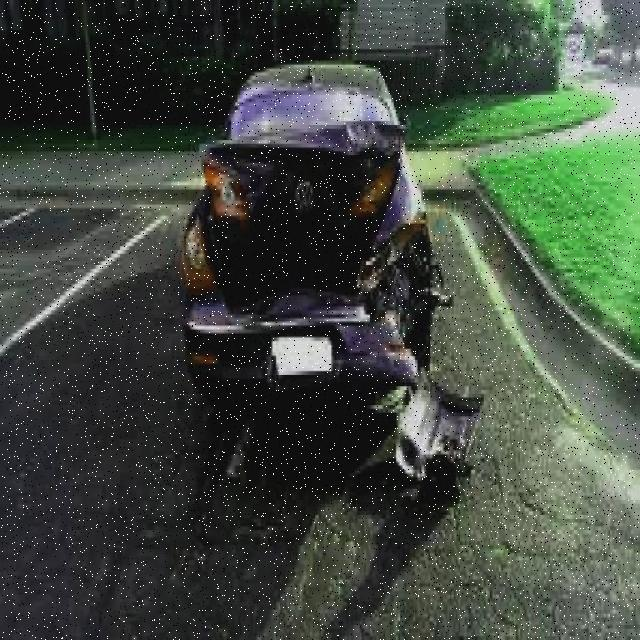car damage: (200, 118, 479, 492)
